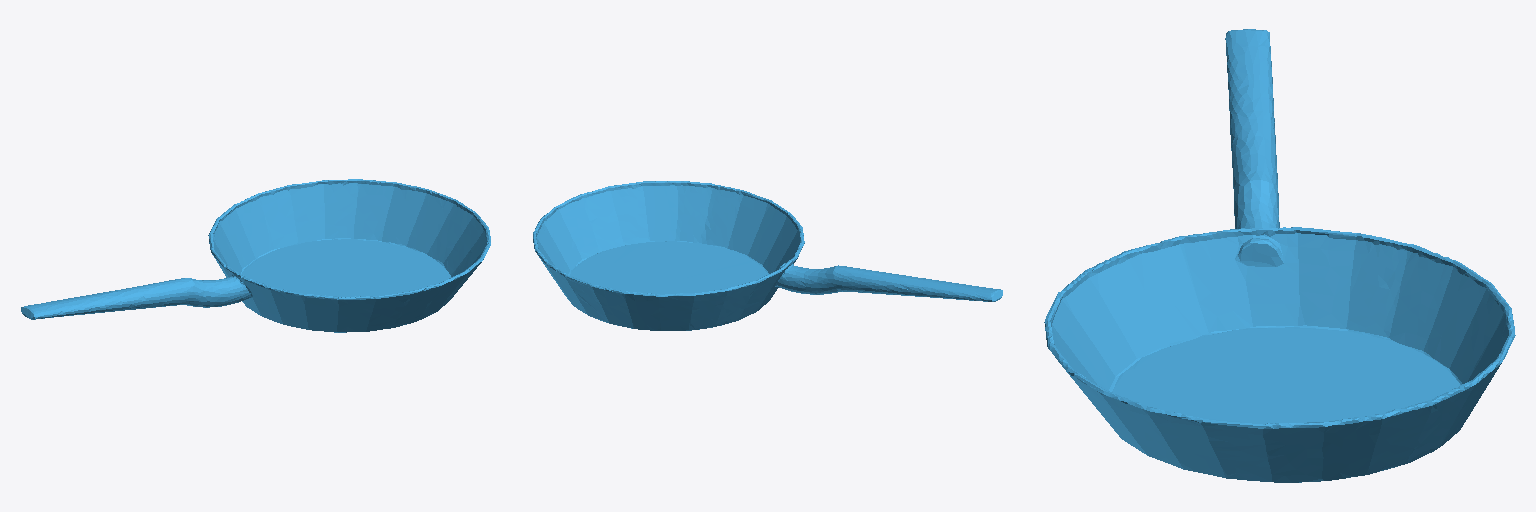
The robot description file, URDF, robot "Pan_a5e0efaaf0ded23e88d29413a3dd87fd_S":
<?xml version="1.0"?>
<robot name="Pan_a5e0efaaf0ded23e88d29413a3dd87fd_S">
  <link name="base"/>
  <link name="link_0">
  <visual>
    <origin xyz="0.0 0.0 0.0"/>
    <geometry>
      <mesh filename="Pan_a5e0efaaf0ded23e88d29413a3dd87fd_S.obj" scale="1.0 1.0 1.0"/>
    </geometry>
  </visual>
  <collision>
    <origin xyz="0.0 0.0 0.0"/>
    <geometry>
      <mesh filename="collision.obj" scale="1.0 1.0 1.0"/>
    </geometry>
  </collision>
  </link>
  <joint name="joint_0" type="fixed">
    <origin rpy="0 0 0" xyz="0 0 0"/>
    <child link="link_0"/>
    <parent link="base"/>
  </joint>
</robot>

--- Facts derived from the render (not from the file) ---
The picture shows the robot from 3 angles, left to right: view 1: azimuth 30°, elevation 25°; view 2: azimuth 150°, elevation 25°; view 3: azimuth 270°, elevation 25°; orthographic projection.
Robot: Pan_a5e0efaaf0ded23e88d29413a3dd87fd_S — 2 links, 1 joints (1 fixed); root link base; default pose: all joints at 0.
Visible links, largest first — view 1: link_0; view 2: link_0; view 3: link_0.
Link boxes in pixels (left/top/right/bottom): link_0: left=21, top=179, right=490, bottom=332; link_0: left=533, top=181, right=1002, bottom=330; link_0: left=1044, top=29, right=1515, bottom=482.
Size in the robot's own frame: 0.3005 by 0.1611 by 0.0418 metres.
Meshes: 1 distinct files referenced, 1 mesh visuals loaded (1 OBJ).